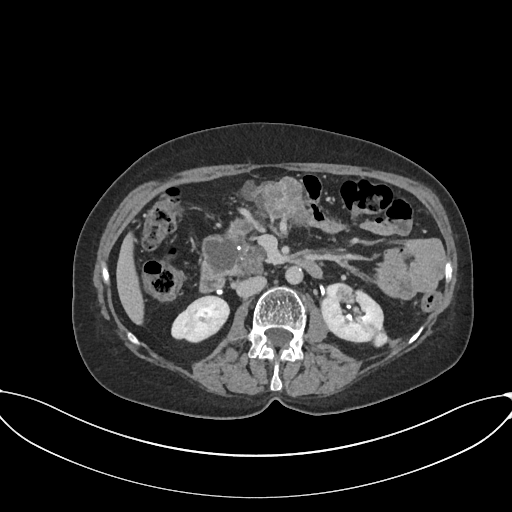Lesion: (334, 285, 359, 306)
